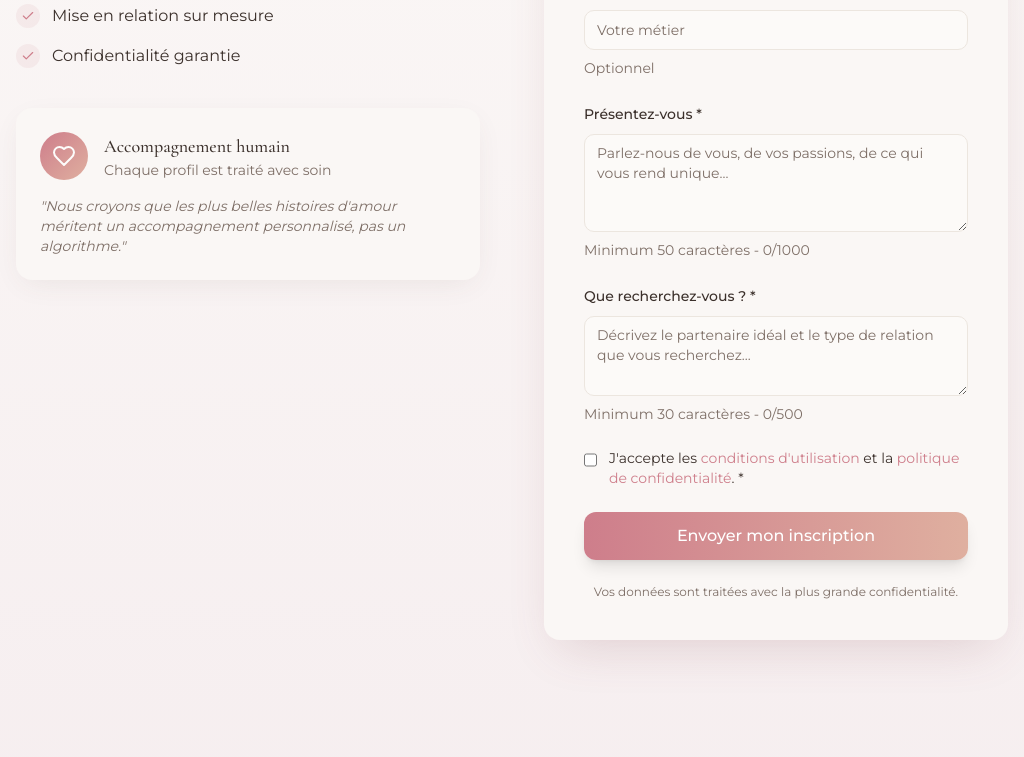
Scenario: RegistrationSection › devrait afficher les erreurs de validation pour les champs requis
This screenshot has width=1024, height=757.
(page scrolled)
Click the button "Envoyer mon inscription".
click(776, 536)  # box [584,512,968,560]
(page scrolled)
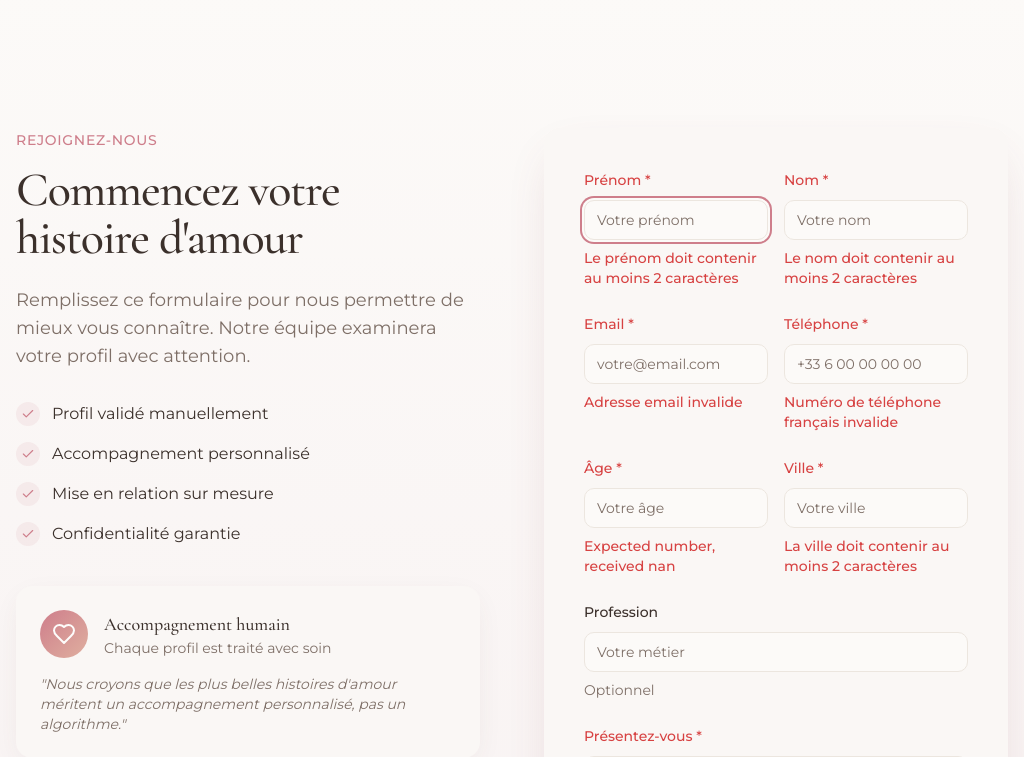
expect the text "Le prénom doit contenir au moins 2 caractères" is shown: met, box [584,248,768,288]
